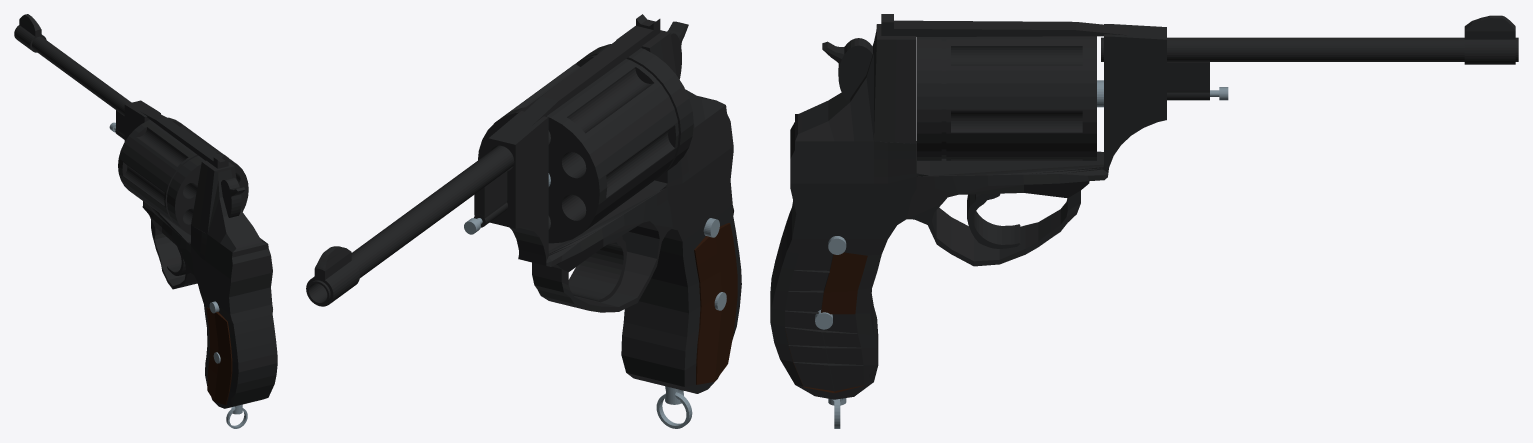
Rendered from Revolver_TEST_TEXTURE.glb.
3 renders of one model, left to right at view 1: azimuth 30°, elevation 25°; view 2: azimuth 150°, elevation 25°; view 3: azimuth 270°, elevation 25°, orthographic. The views are drawn at different scales.
Visible parts, largest first — view 1: ImmovabaleRevolerParts; view 2: ImmovabaleRevolerParts; view 3: ImmovabaleRevolerParts.
Boxes of the visible parts, box(x1,y1,x2,y2) form: ImmovabaleRevolerParts: box(14, 14, 277, 428); ImmovabaleRevolerParts: box(306, 14, 741, 428); ImmovabaleRevolerParts: box(770, 14, 1518, 428).
Size of the model in its own units: 1.5 by 5.04 by 8.32.
3 materials, 3 textured.
